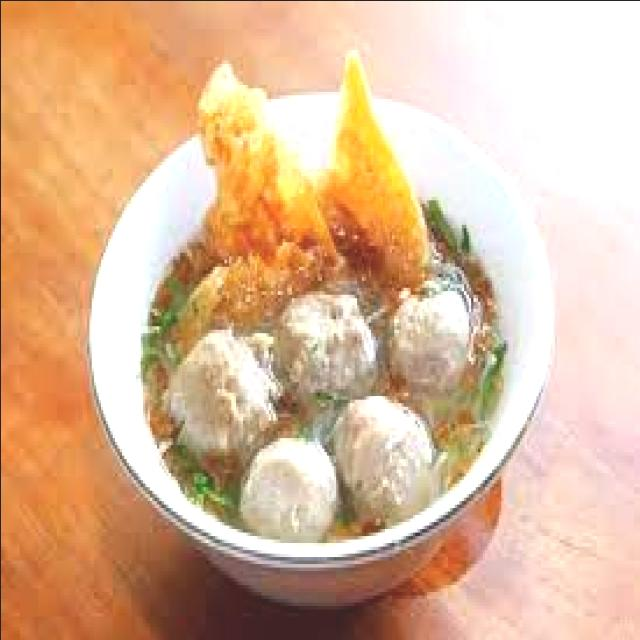bakso: (142, 56, 498, 542)
